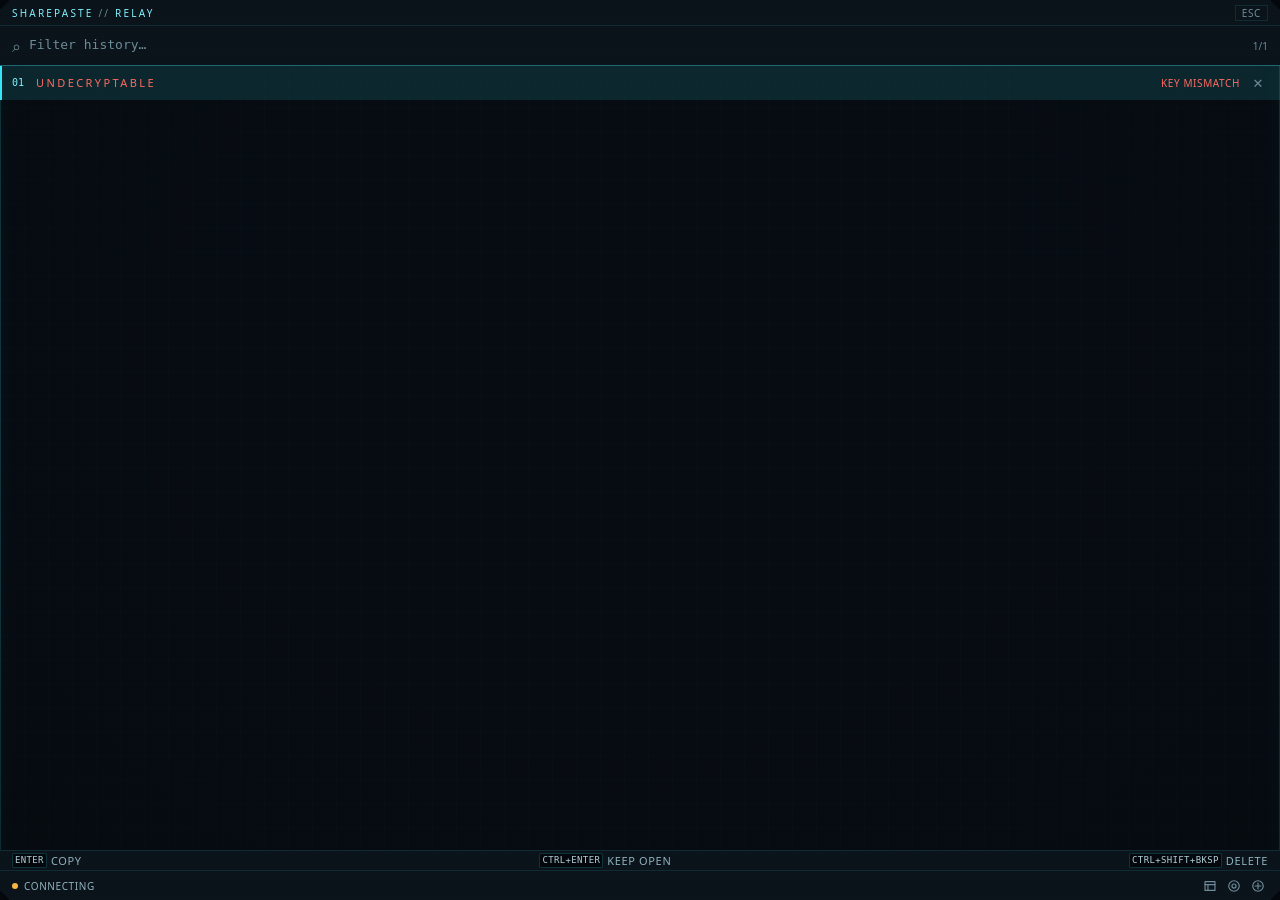
Scenario: Popover keyboard and row surfaces › explains an Undecryptable entry in a strip instead of copying it
This screenshot has width=1280, height=900.
Click the list item with test id "entry-row" at (640, 83), box [0,66,1279,100]
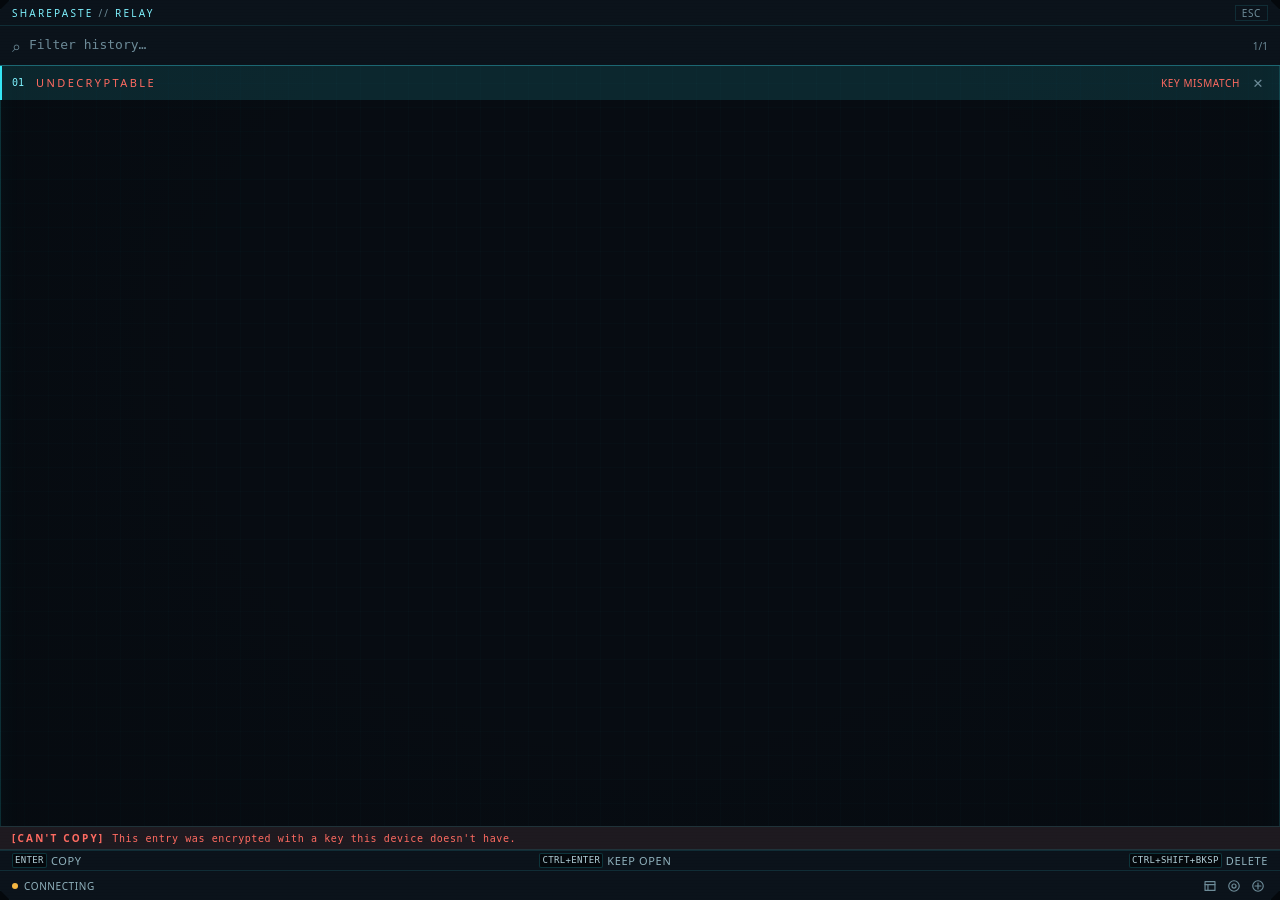
Result: the message with test id "toast" shows "[CAN'T COPY]" at [18,830,99,844]
Result: the message with test id "toast" shows "encrypted with a key this device doesn't have" at [112,832,516,844]
